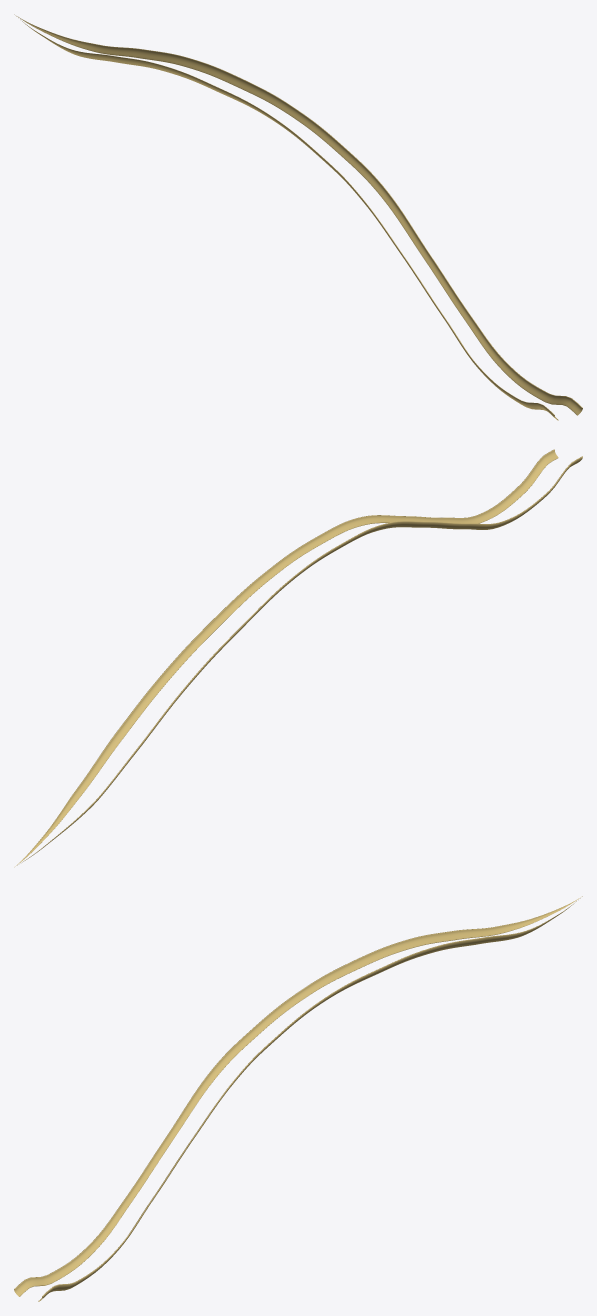
3 views of the same model, one above another, from view 1: azimuth 30°, elevation 25°; view 2: azimuth 150°, elevation 25°; view 3: azimuth 330°, elevation 25° (orthographic).
Visible parts, largest first — view 1: 脊髓小脑前束; view 2: 脊髓小脑前束; view 3: 脊髓小脑前束.
Part boxes in pixels (left/top/right/bottom): 脊髓小脑前束: left=14, top=14, right=582, bottom=420; 脊髓小脑前束: left=14, top=449, right=582, bottom=867; 脊髓小脑前束: left=14, top=896, right=582, bottom=1301.
Size of the model in its own units: 0.0216 by 0.0793 by 0.7214.
